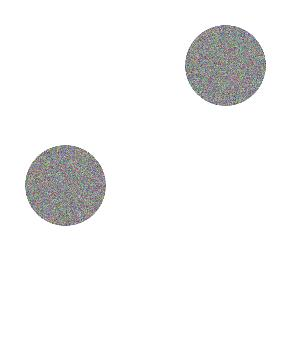I: (14, 17, 274, 335)
